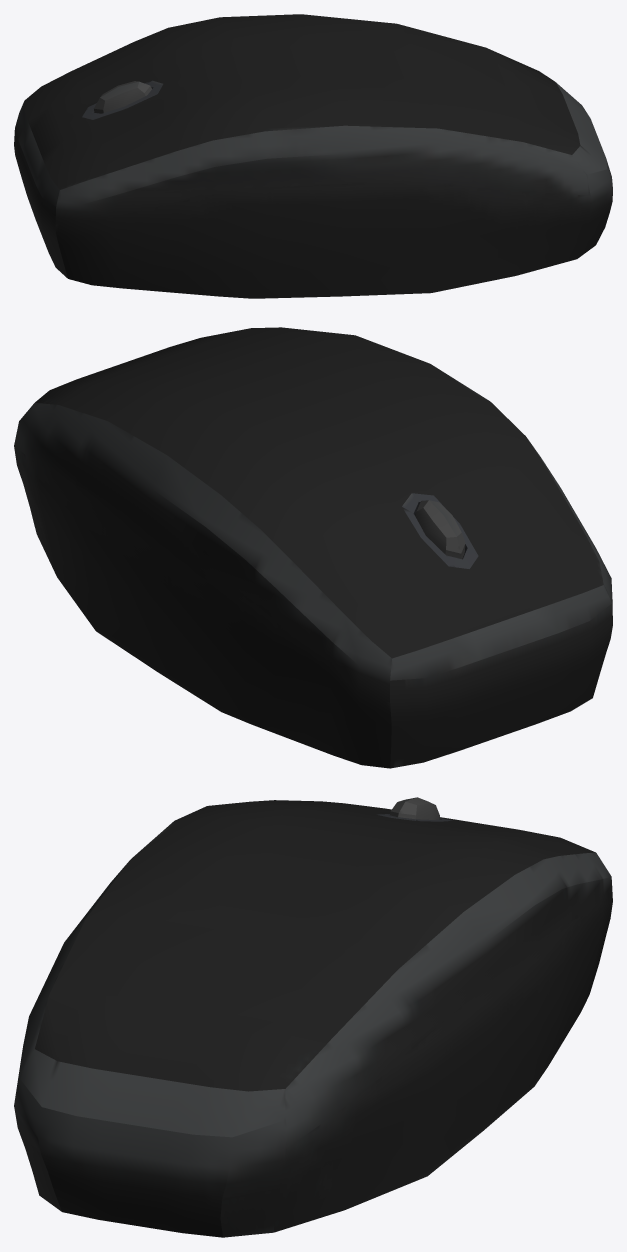
File: ScrivaniaLelloMouse2.gltf
3 renders of one model, top to bottom at view 1: azimuth 30°, elevation 25°; view 2: azimuth 150°, elevation 25°; view 3: azimuth 270°, elevation 25°, orthographic. The views are drawn at different scales.
Visible parts, largest first — view 1: Lello Tappetino Blu Mouse; view 2: Lello Tappetino Blu Mouse; view 3: Lello Tappetino Blu Mouse.
Part boxes in pixels (bbox=[...]): Lello Tappetino Blu Mouse: bbox=[14, 14, 612, 298]; Lello Tappetino Blu Mouse: bbox=[14, 327, 612, 768]; Lello Tappetino Blu Mouse: bbox=[14, 797, 612, 1237].
Bounding box in the file's own units: 0.0874 × 0.0297 × 0.0687.
Materials: 1 (1 with a texture image).
